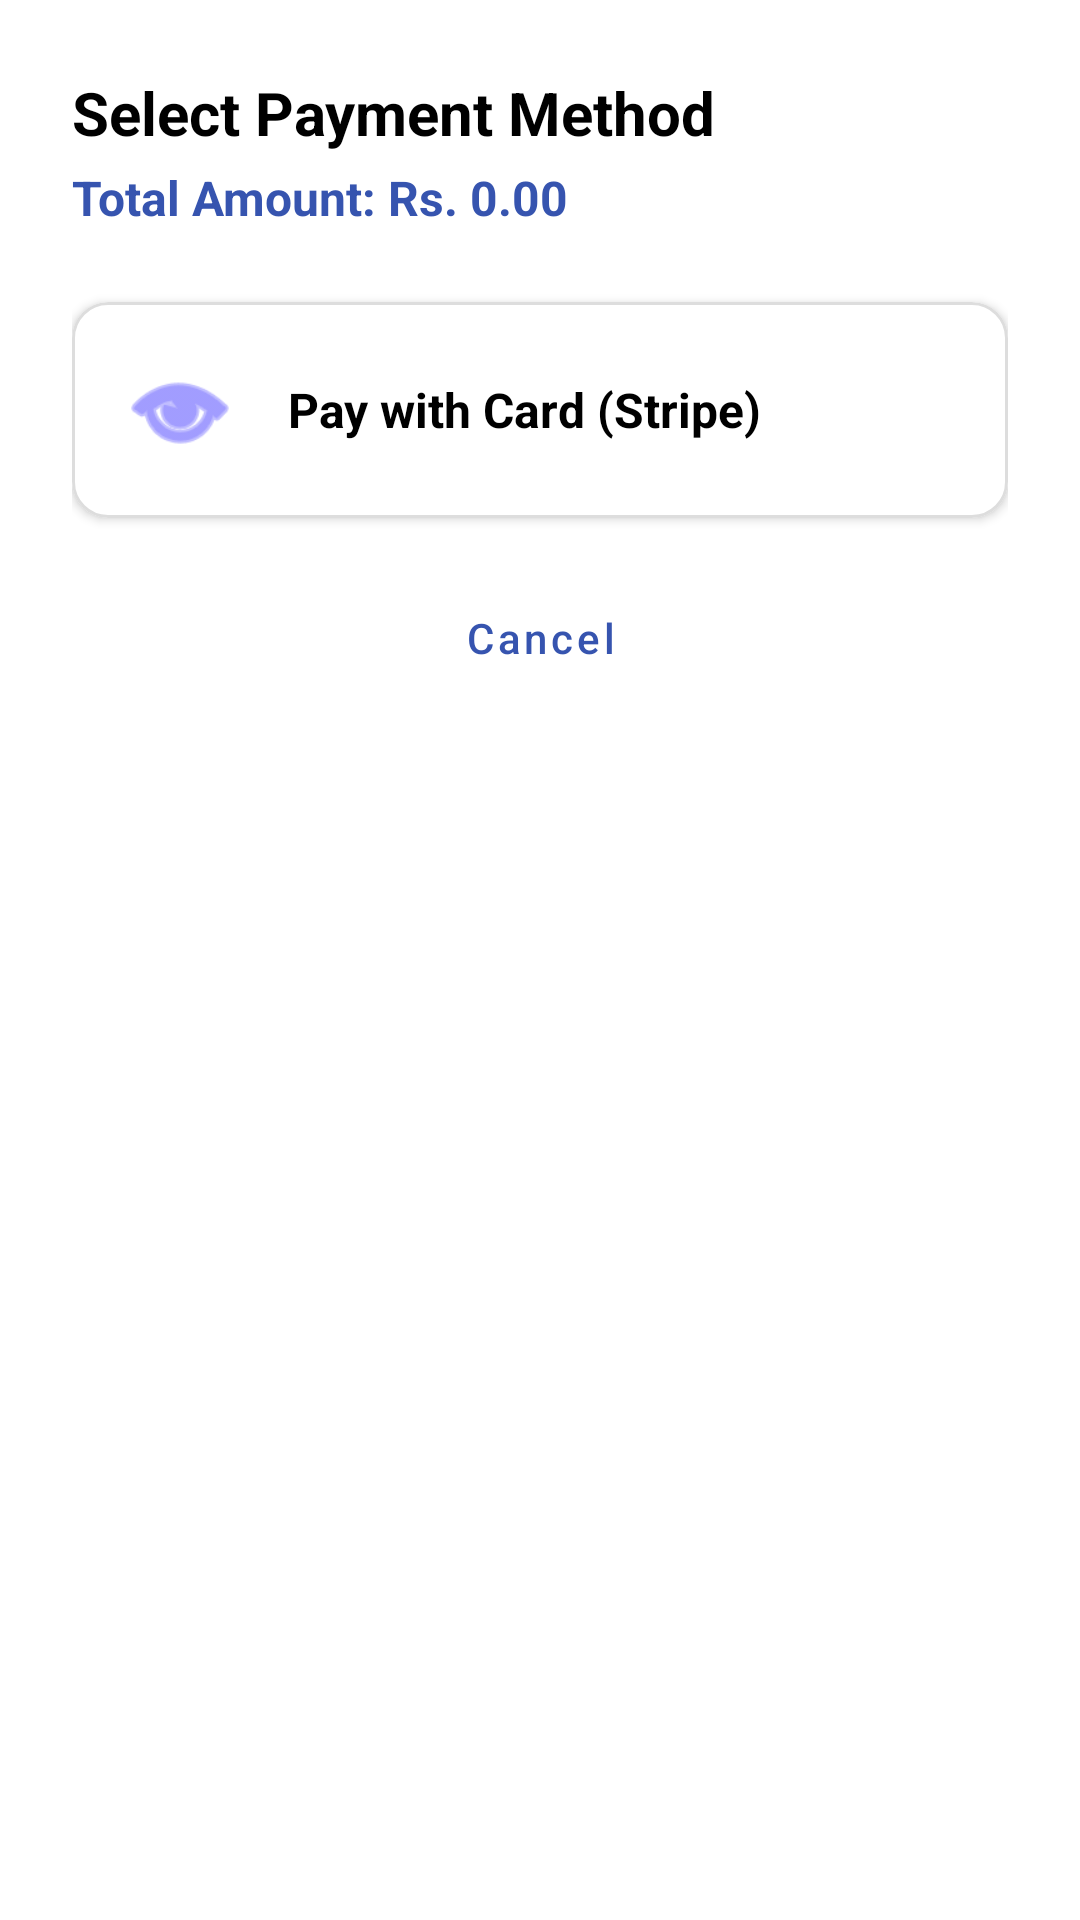

Screen size 1080×1920. Icon name, then its box in pixels as rect(x1, y1, x2, y2):
view: rect(131, 382, 229, 444)
